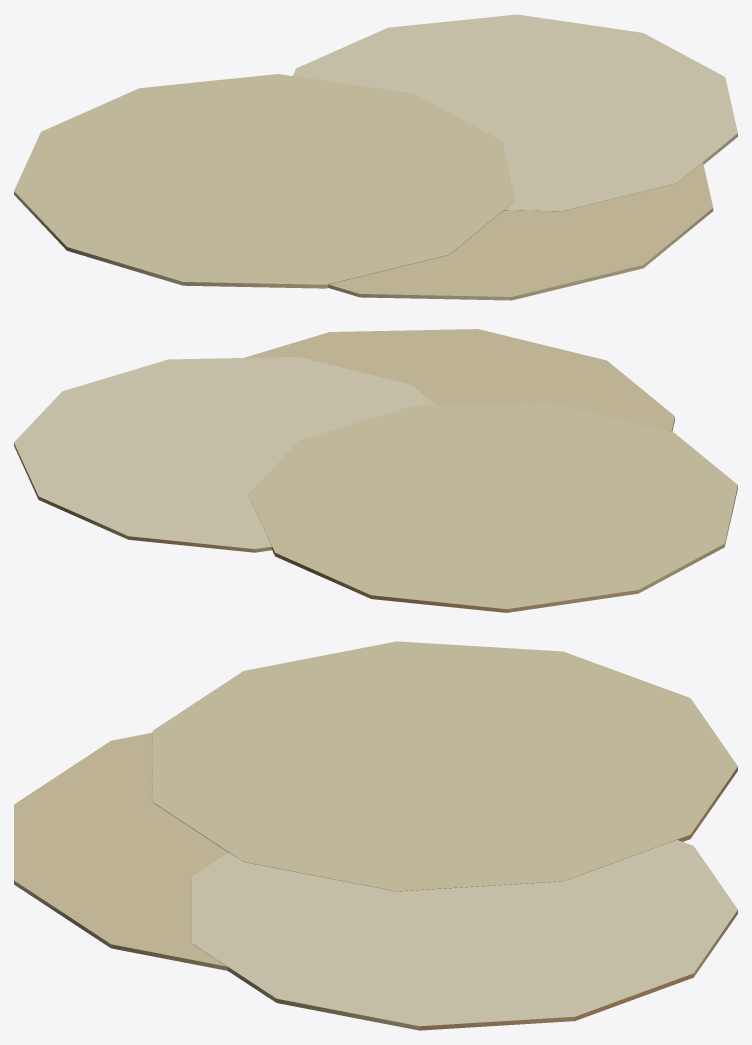
File: area_guard_0_0.fbx
The picture shows the model from 3 angles, top to bottom: view 1: azimuth 30°, elevation 25°; view 2: azimuth 150°, elevation 25°; view 3: azimuth 270°, elevation 25°; orthographic projection. The views are drawn at different scales.
Parts seen in each view (by area): view 1: area_guard_0_0_body; view 2: area_guard_0_0_body; view 3: area_guard_0_0_body.
Part boxes in pixels (box(x1,y1,x2,y2)): area_guard_0_0_body: box(14, 14, 737, 300); area_guard_0_0_body: box(14, 329, 737, 612); area_guard_0_0_body: box(14, 641, 737, 1030).
Size of the model in its own units: 11426 by 62.5 by 9088.
1 material, 1 textured.
